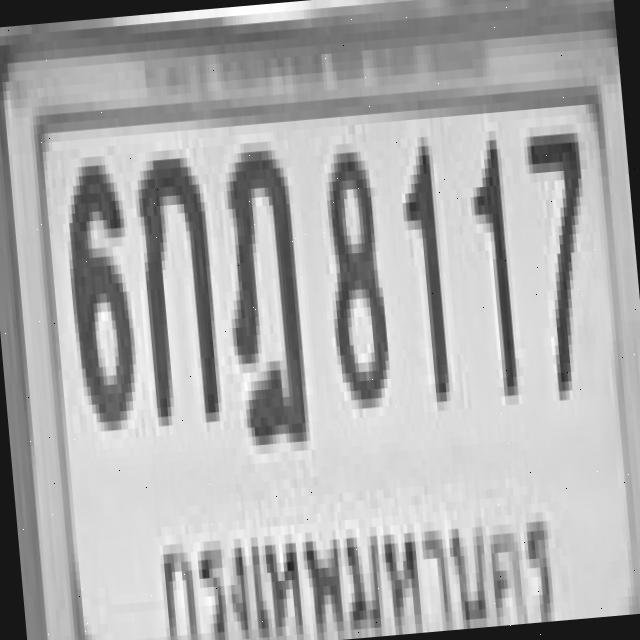1: (396, 132, 449, 399), (464, 130, 518, 388)
10GorGai: (131, 147, 218, 417)
23DorChaDa: (212, 140, 306, 437)
6: (56, 154, 138, 423)
7: (522, 124, 596, 392)
8: (315, 142, 388, 401)
Bangkok: (148, 473, 566, 640)
